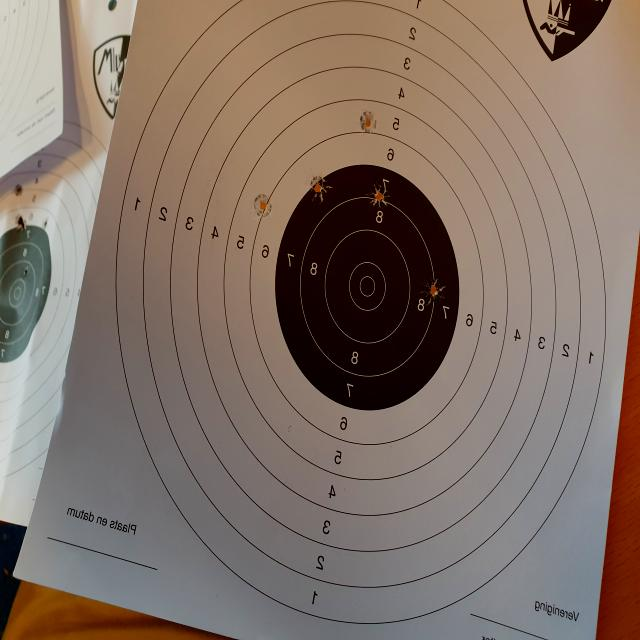5: (359, 110, 376, 134)
6: (253, 193, 271, 218)
7: (308, 175, 328, 203)
8: (368, 182, 389, 208), (424, 278, 444, 303)
Target: (114, 1, 607, 625)
black_contour: (275, 164, 459, 411)
